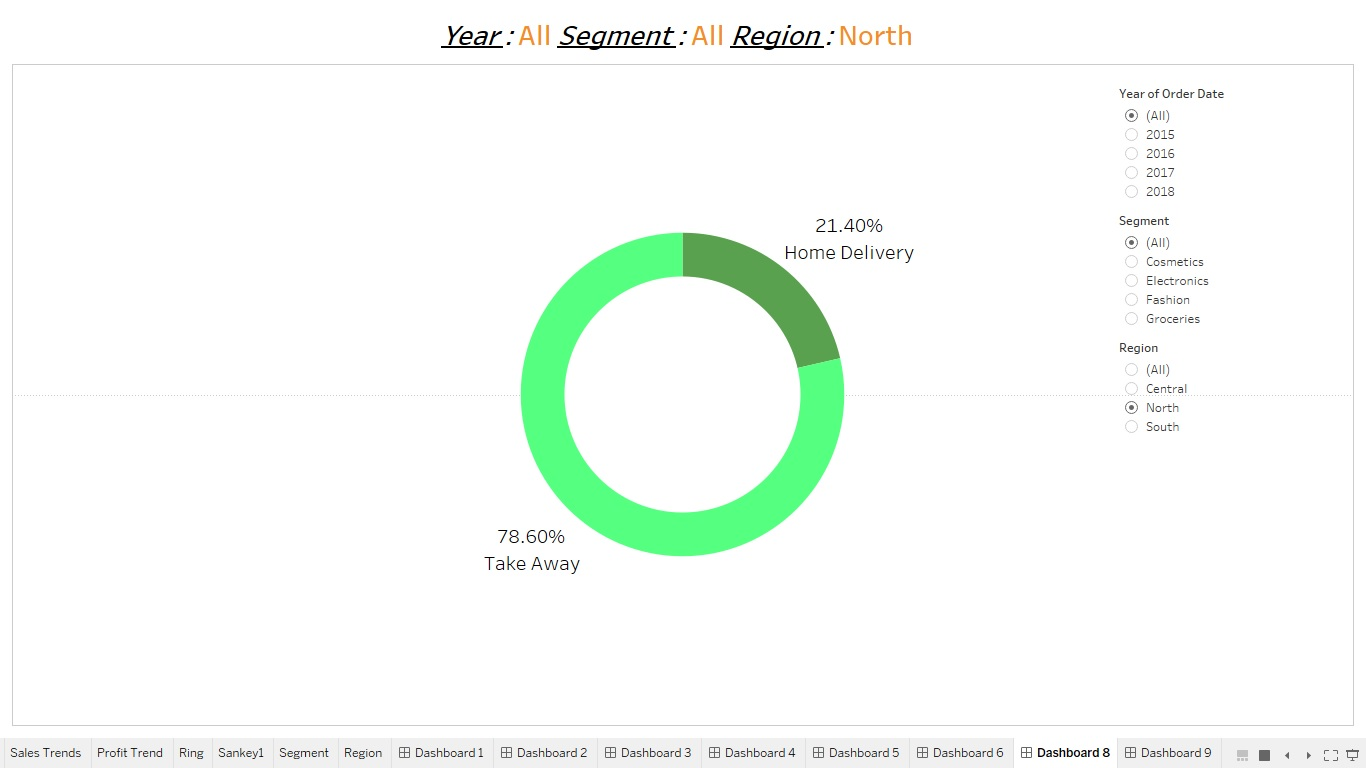

Layout of this report page (visuals, bound fields, positions):
{"tool":"tableau","page":{"name":"Dashboard 8","canvas":[1000,1000],"units":"permille","ordinal":6},"visuals":[{"type":"worksheet","title":"Ring","mark":"Pie","rows":["Number of Records","Number of Records"],"box":[5.9,10.8,988.3,978.3]},{"type":"filter","title":"Ring","param":"[federated.0a1m9l81tqbn4o0zzsdkd12s0d94].[yr:Order Date:ok]","box":[816.5,109.8,138.5,172.1]},{"type":"filter","title":"Ring","param":"[federated.0a1m9l81tqbn4o0zzsdkd12s0d94].[none:Segment:nk]","box":[816.5,281.9,138.5,172.1]},{"type":"filter","title":"Ring","param":"[federated.0a1m9l81tqbn4o0zzsdkd12s0d94].[none:Region:nk]","box":[816.5,454,138.5,146.3]}]}

Visuals, with their boxes on the dashboard's canvas, which has no fixed pixel size, in thousandths of its width and height (x1, y1, x2, y2). These are canvas units, not pixel positions in the 1366x768 screenshot, which may show the page scaled, cropped or inside an application window:
"Ring" worksheet (Pie marks): x1=6, y1=11, x2=994, y2=989
"Ring" filter: x1=816, y1=110, x2=955, y2=282
"Ring" filter: x1=816, y1=282, x2=955, y2=454
"Ring" filter: x1=816, y1=454, x2=955, y2=600
